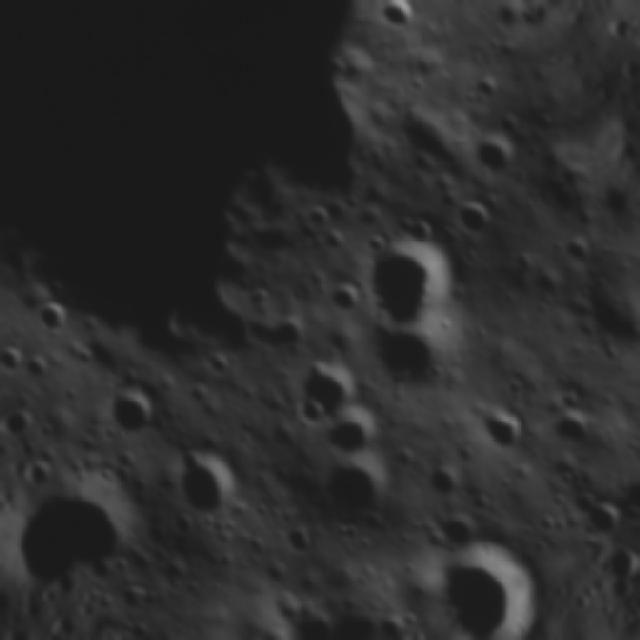crater: (353, 216, 485, 349), (47, 464, 153, 587), (422, 526, 540, 614), (363, 308, 460, 407), (166, 436, 260, 527), (316, 446, 392, 526), (104, 374, 168, 449), (295, 354, 367, 417), (313, 402, 389, 461), (453, 187, 513, 248), (467, 126, 528, 183), (478, 402, 527, 458), (362, 598, 427, 640), (572, 481, 618, 537), (548, 410, 598, 459), (289, 603, 345, 640), (437, 507, 483, 551), (489, 0, 538, 40), (323, 274, 366, 318), (374, 0, 423, 38), (422, 457, 464, 501), (521, 268, 567, 308), (112, 601, 158, 640), (278, 518, 320, 560), (164, 504, 208, 544), (558, 228, 598, 269), (19, 348, 59, 388), (617, 460, 640, 528), (468, 68, 506, 108), (35, 298, 73, 338), (264, 316, 304, 352), (466, 485, 505, 521), (494, 106, 532, 142), (290, 397, 327, 431), (300, 199, 334, 232), (317, 226, 349, 257), (0, 338, 23, 374), (419, 527, 446, 556), (287, 281, 315, 307), (556, 385, 584, 410), (102, 419, 124, 448), (72, 345, 98, 369), (409, 73, 429, 95), (0, 259, 8, 295), (637, 399, 640, 426), (638, 341, 640, 379)
